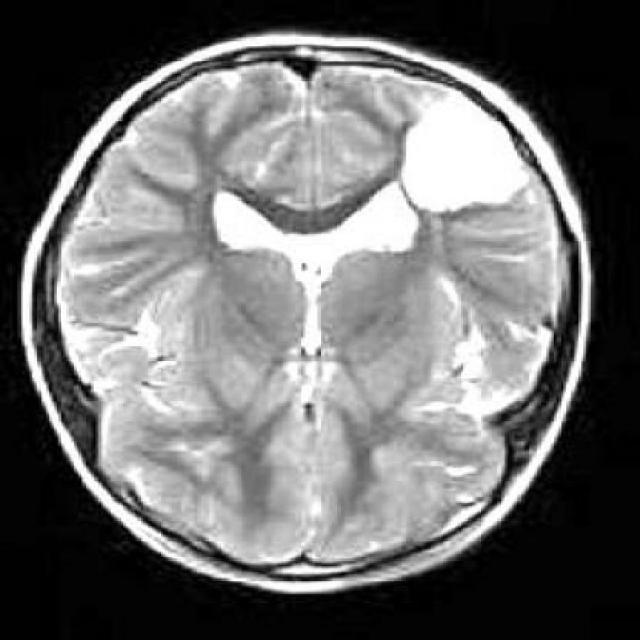Brain-Tumor: (389, 76, 544, 233)
